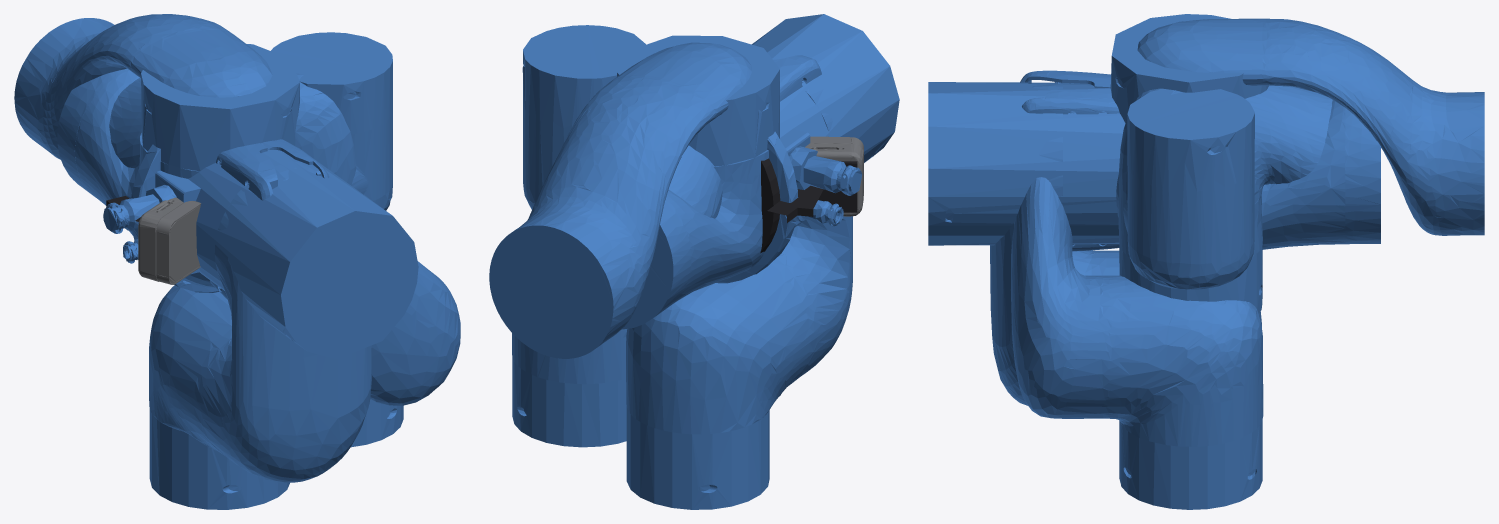
Rendered from arm.glb.
The picture shows the model from 3 angles, left to right: view 1: azimuth 30°, elevation 25°; view 2: azimuth 150°, elevation 25°; view 3: azimuth 270°, elevation 25°; orthographic projection.
Visible parts, largest first — view 1: b3, b1, b2, b6, b7, b5, b9, b4; view 2: b3, b6, b2, b1, b5, b7, b9, b4; view 3: b5, b6, b1, b7, b2, b4, b3, b9.
Boxes of the visible parts, box(x1,y1,x2,y2) form: b3: box(149, 162, 371, 509); b1: box(103, 144, 418, 359); b2: box(57, 44, 299, 287); b6: box(14, 14, 272, 159); b7: box(271, 32, 392, 210); b5: box(351, 261, 460, 447); b9: box(106, 139, 329, 299); b4: box(109, 73, 356, 185); b3: box(626, 58, 852, 509); b6: box(489, 42, 751, 358); b2: box(617, 35, 779, 329); b1: box(716, 14, 899, 283); b5: box(512, 329, 627, 447); b7: box(522, 25, 645, 209); b9: box(756, 45, 863, 253); b4: box(668, 145, 722, 218); b5: box(1011, 177, 1263, 509); b6: box(1137, 18, 1484, 235); b1: box(928, 82, 1125, 245); b7: box(1116, 89, 1254, 289); b2: box(1110, 14, 1380, 249); b4: box(1118, 85, 1332, 313); b3: box(990, 83, 1261, 405); b9: box(1020, 70, 1119, 251).
Bounding box in the file's own units: 0.2127 × 0.2782 × 0.3278.
